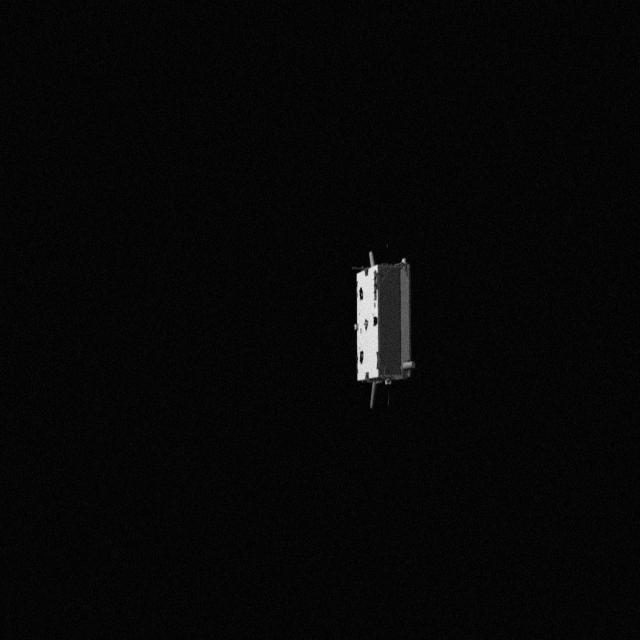medium_debris: (342, 248, 424, 414)
